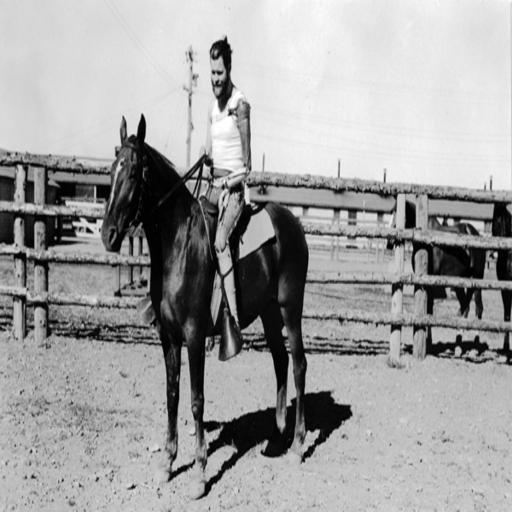horse: (99, 108, 307, 502), (384, 200, 488, 358), (486, 204, 512, 358)
